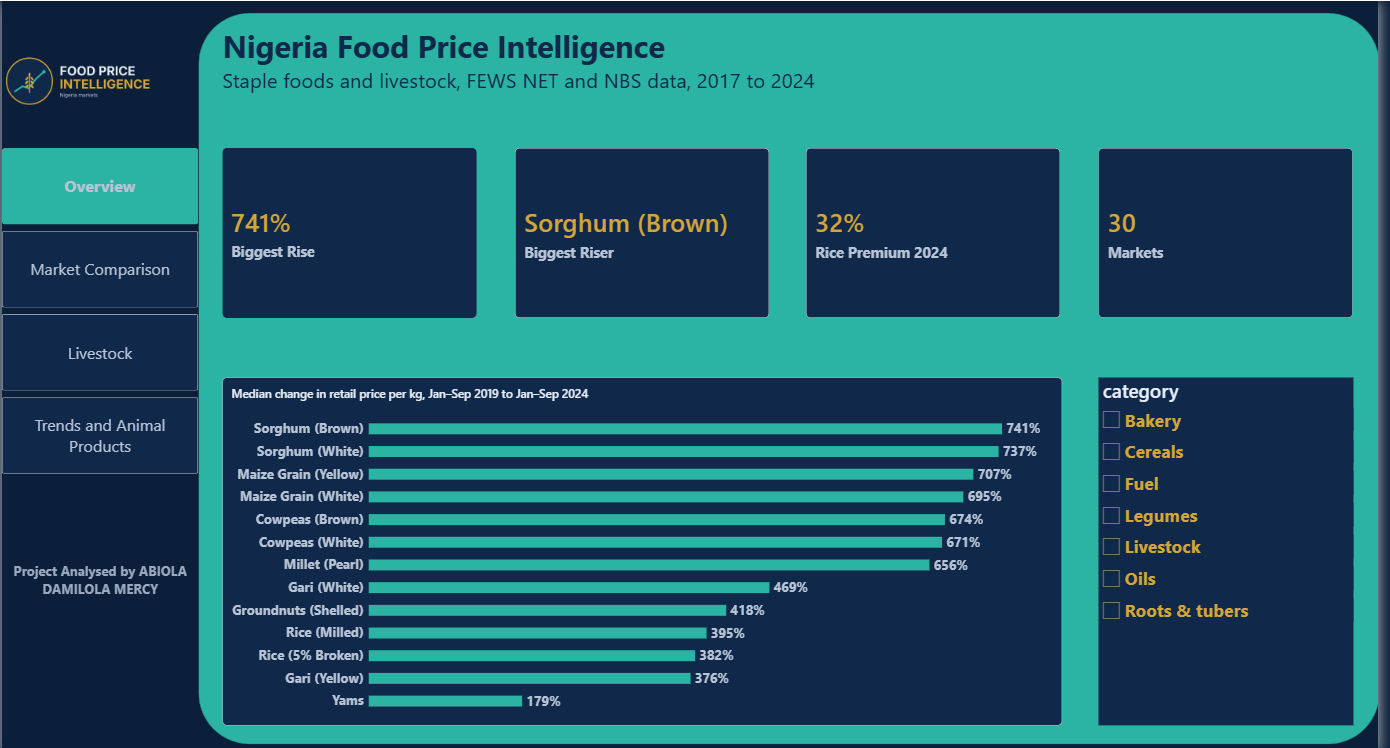

The dashboard page shown, as its layout file describes it:
{"tool":"powerbi","page":{"name":"Overview","canvas":[2520,1380],"ordinal":0},"visuals":[{"type":"shape","box":[359.7,21.3,2161.5,1338.4],"z":0},{"type":"textbox","box":[403.6,44.4,2077.5,181.5],"z":1000},{"type":"clusteredBarChart","title":"Median change in retail price per kg, Jan–Sep 2019 to Jan–Sep 2024","fields":{"Category":["public bi_price_change.product"],"Y":["Sum(public bi_price_change.median_change)"]},"box":[403.6,688.8,1536.8,636.9],"z":2000},{"type":"cardVisual","title":"Biggest rise","fields":{"Data":["FEWS_Prices.Biggest Rise"]},"box":[403.6,270.3,465,311],"z":3000},{"type":"cardVisual","fields":{"Data":["FEWS_Prices.Biggest Riser"]},"box":[938.1,270.3,465,311.1],"z":4000},{"type":"cardVisual","fields":{"Data":["FEWS_Prices.Rice Premium 2024"]},"box":[1472.6,270.3,465,311.1],"z":5000},{"type":"cardVisual","fields":{"Data":["FEWS_Prices.Markets"]},"box":[2007.1,270.3,465,311.1],"z":6000},{"type":"slicer","fields":{"Values":["Dim_Product.category"]},"box":[2007.1,688.8,466.6,636.9],"z":7000},{"type":"pageNavigator","box":[0,270.3,359.2,596.2],"z":8000},{"type":"image","box":[0,21,359,249],"z":9000},{"type":"textbox","box":[0,1027.4,359.7,332.3],"z":10000}]}

Visuals, with their boxes in screenshot pixels (x1, y1, x2, y2), scaled from the page's 2520x1380 canvas onto the 1390x748 screenshot:
shape: 198 12 1389 737
textbox: 223 24 1369 122
"Median change in retail price per kg, Jan–Sep 2019 to Jan–Sep 2024" clusteredBarChart: 223 373 1070 719
"Biggest rise" cardVisual: 223 147 479 315
cardVisual - FEWS_Prices.Biggest Riser: 517 147 774 315
cardVisual - FEWS_Prices.Rice Premium 2024: 812 147 1069 315
cardVisual - FEWS_Prices.Markets: 1107 147 1364 315
slicer - Dim_Product.category: 1107 373 1364 719
pageNavigator: 0 147 198 470
image: 0 11 198 146
textbox: 0 557 198 737
